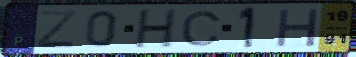0: (85, 9, 120, 50)
1: (236, 5, 259, 51)
C: (179, 9, 223, 48)
H: (133, 8, 180, 51), (274, 7, 322, 49)
Z: (34, 10, 79, 50)
